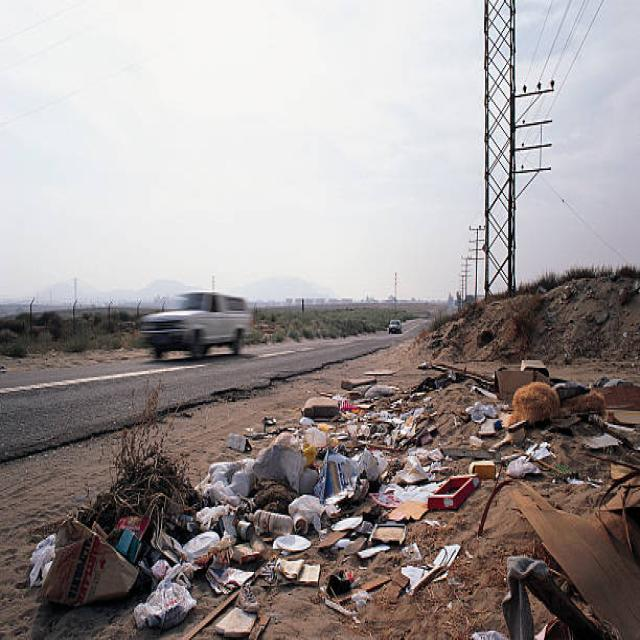paper: (44, 524, 162, 609), (268, 554, 325, 588), (204, 558, 255, 594), (382, 490, 428, 527)
plastic: (244, 512, 308, 538)
trash: (245, 428, 316, 489)
